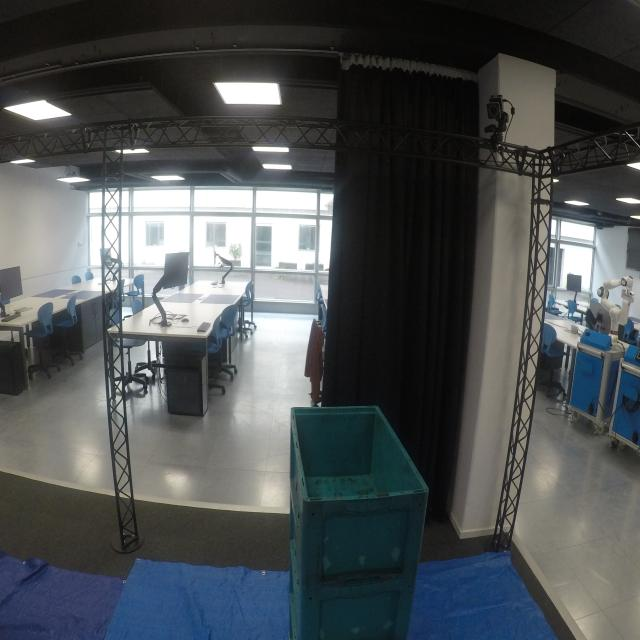BoxB4: (290, 406, 428, 582), (287, 542, 413, 640)
